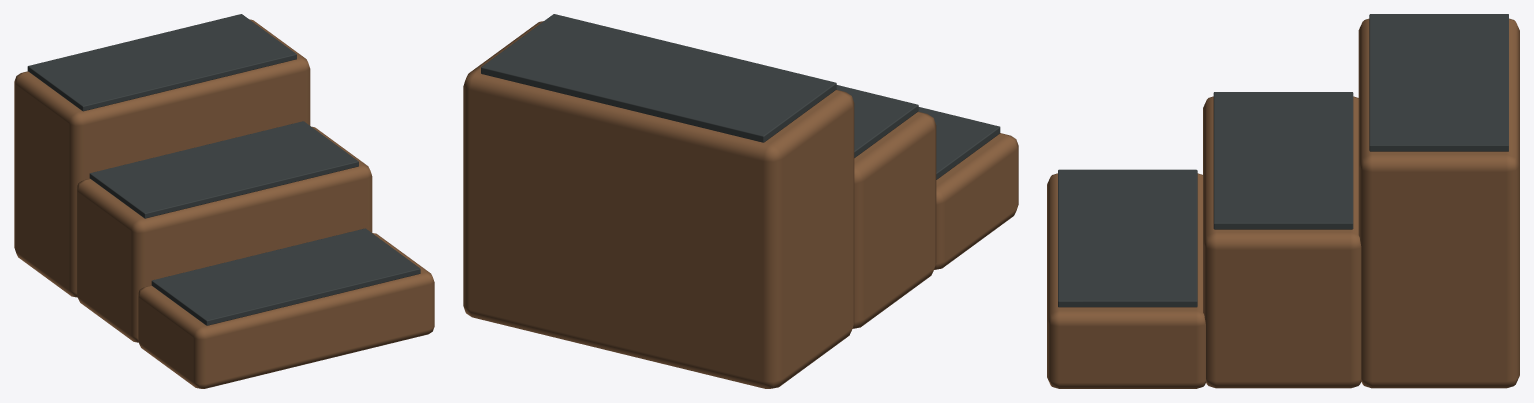
Rendered from city-courthouse-and-records-office-city-courthouse-and-227b3a8a__30992.glb.
3 renders of one model, left to right at view 1: azimuth 30°, elevation 25°; view 2: azimuth 150°, elevation 25°; view 3: azimuth 270°, elevation 25°, orthographic. The views are drawn at different scales.
Visible parts, largest first — view 1: city-courthouse-and-records-office-archive-step-stool; view 2: city-courthouse-and-records-office-archive-step-stool; view 3: city-courthouse-and-records-office-archive-step-stool.
Boxes of the visible parts, bbox=[...] form: city-courthouse-and-records-office-archive-step-stool: bbox=[14, 14, 434, 388]; city-courthouse-and-records-office-archive-step-stool: bbox=[463, 14, 1018, 388]; city-courthouse-and-records-office-archive-step-stool: bbox=[1047, 14, 1519, 388].
Size of the model in its own units: 0.65 by 0.494 by 0.88.
